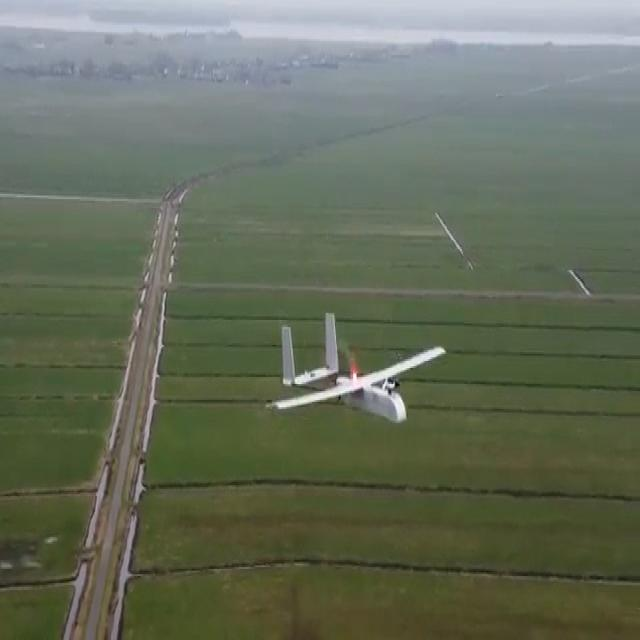iha: (263, 297, 454, 449)
